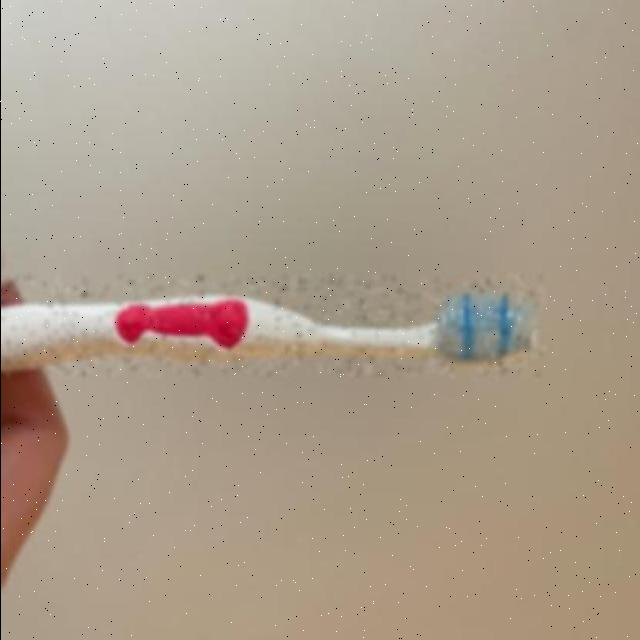toothbrush: (0, 275, 544, 375)
